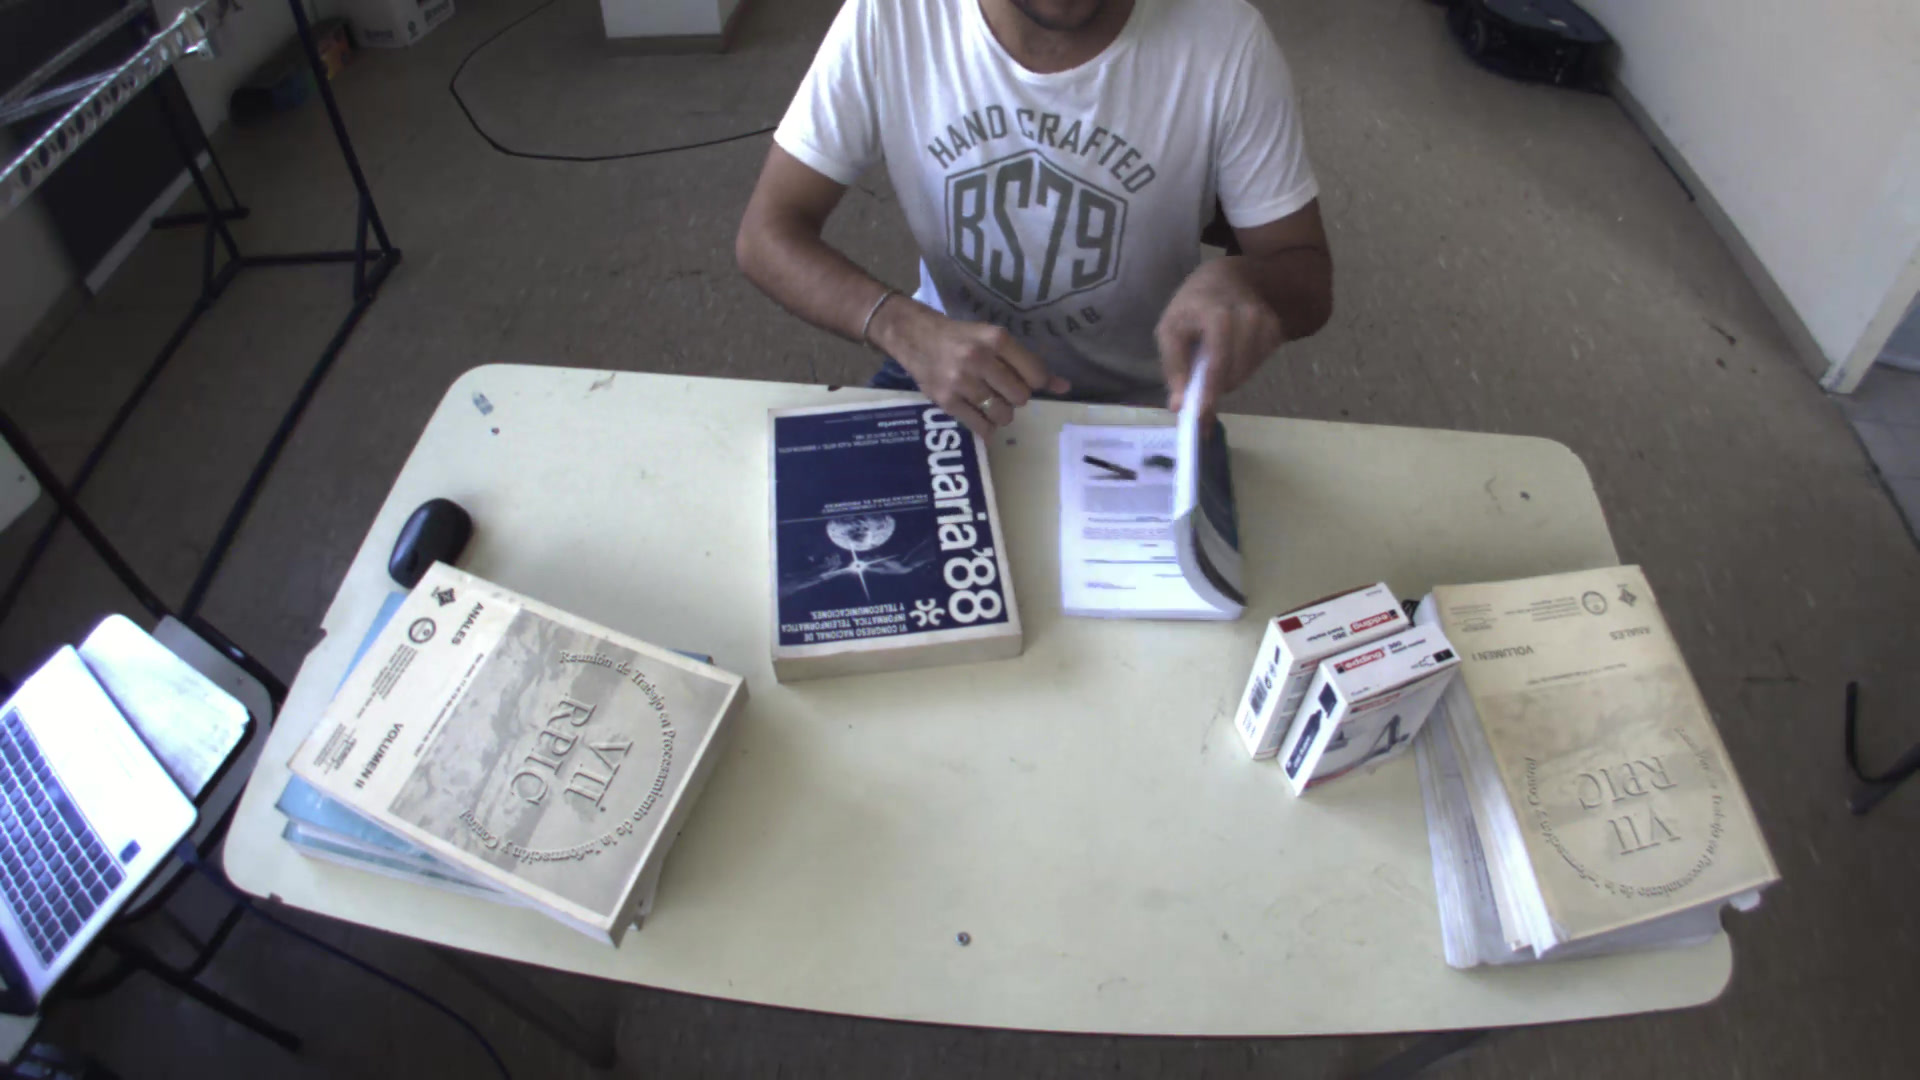hand: (885, 295, 1063, 434), (1151, 251, 1296, 406)
